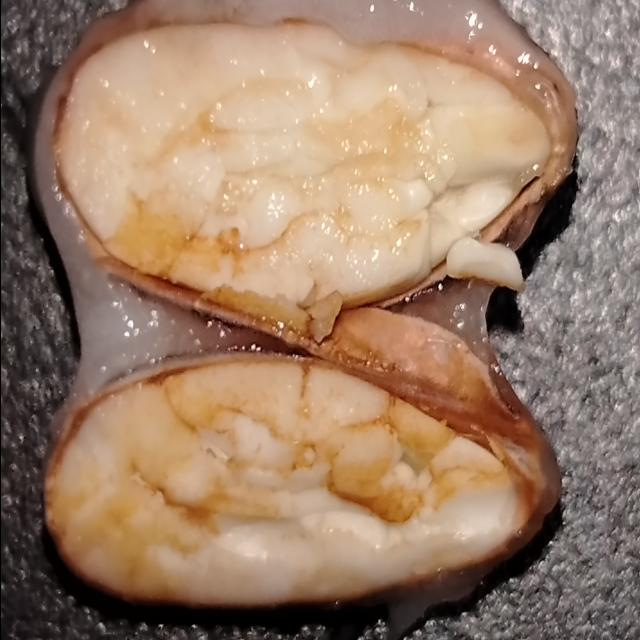Criollo: (63, 21, 563, 306)
